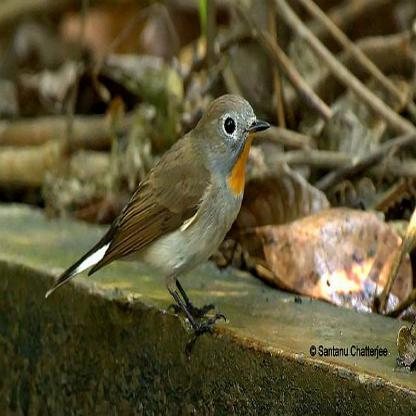Burung: (41, 94, 272, 353)
